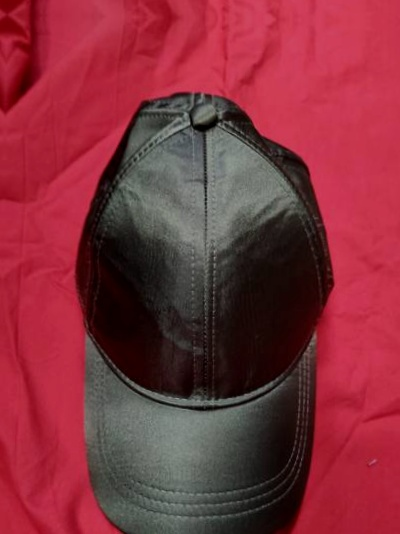Hat: (48, 75, 360, 534)
